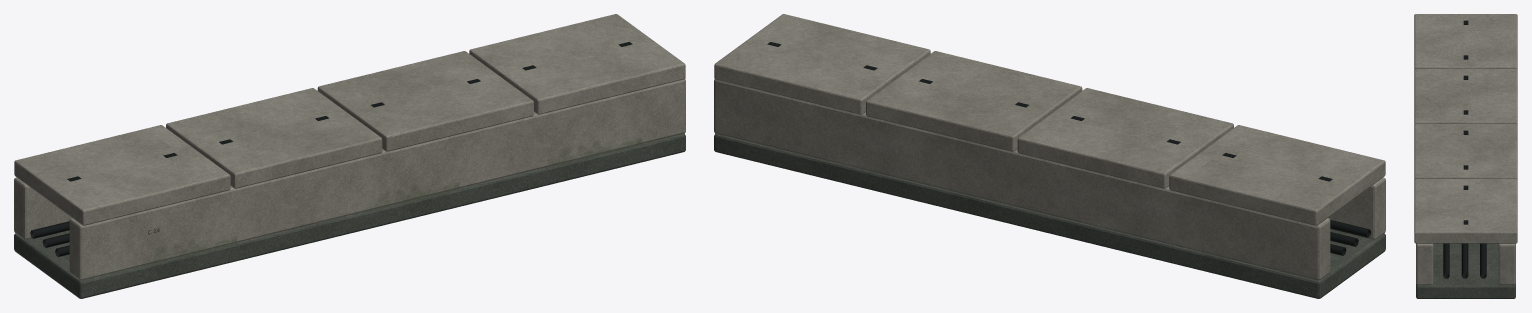
3 renders of one model, left to right at view 1: azimuth 30°, elevation 25°; view 2: azimuth 150°, elevation 25°; view 3: azimuth 270°, elevation 25°, orthographic. The views are drawn at different scales.
Visible parts, largest first — view 1: TF3_KR_R03; view 2: TF3_KR_R03; view 3: TF3_KR_R03.
Boxes of the visible parts, x1=… form: TF3_KR_R03: x1=14, y1=14, x2=685, y2=298; TF3_KR_R03: x1=714, y1=14, x2=1385, y2=298; TF3_KR_R03: x1=1414, y1=14, x2=1517, y2=298.
Size of the model in its own units: 2.42 by 0.342 by 0.475.
Materials: 5 (3 with a texture image).
